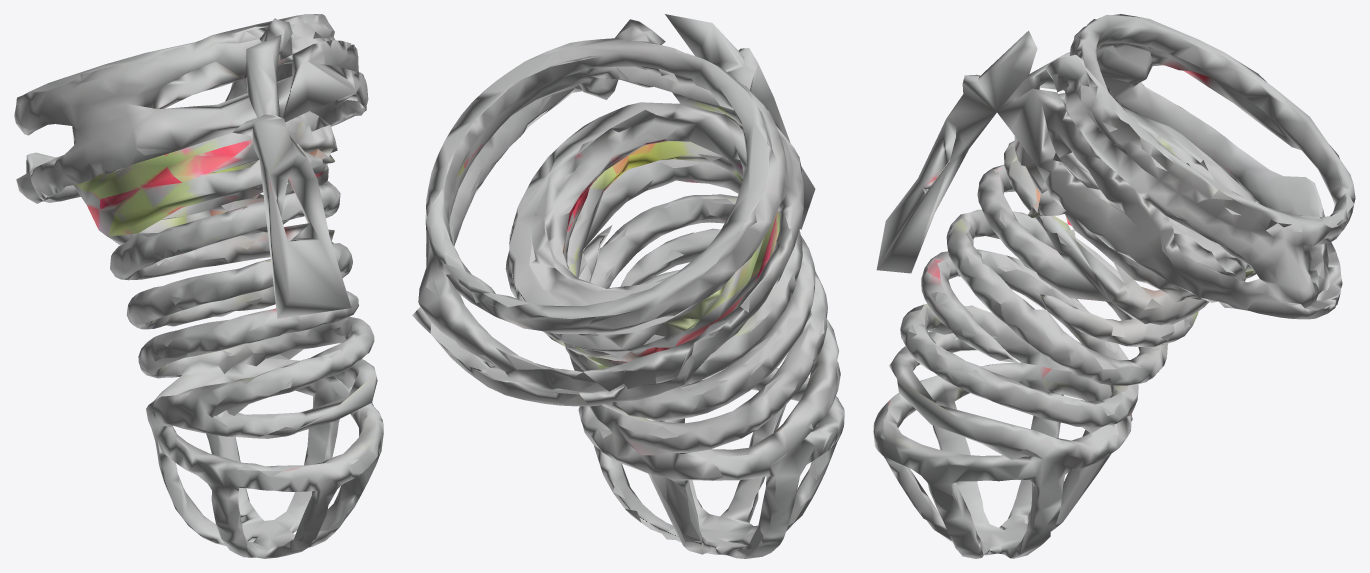
The model's file is cage.glb.
3 views of the same model, side by side, from view 1: azimuth 30°, elevation 25°; view 2: azimuth 150°, elevation 25°; view 3: azimuth 270°, elevation 25° (orthographic). The views are drawn at different scales.
Parts seen in each view (by area): view 1: texture_pbr_v128; view 2: texture_pbr_v128; view 3: texture_pbr_v128.
Boxes of the visible parts, x1,y1,x2,y2 form: texture_pbr_v128: (14,14,383,558); texture_pbr_v128: (412,14,844,558); texture_pbr_v128: (873,14,1355,558).
Bounding box in the file's own units: 0.3888 × 0.6058 × 0.5162.
1 material, 1 textured.
